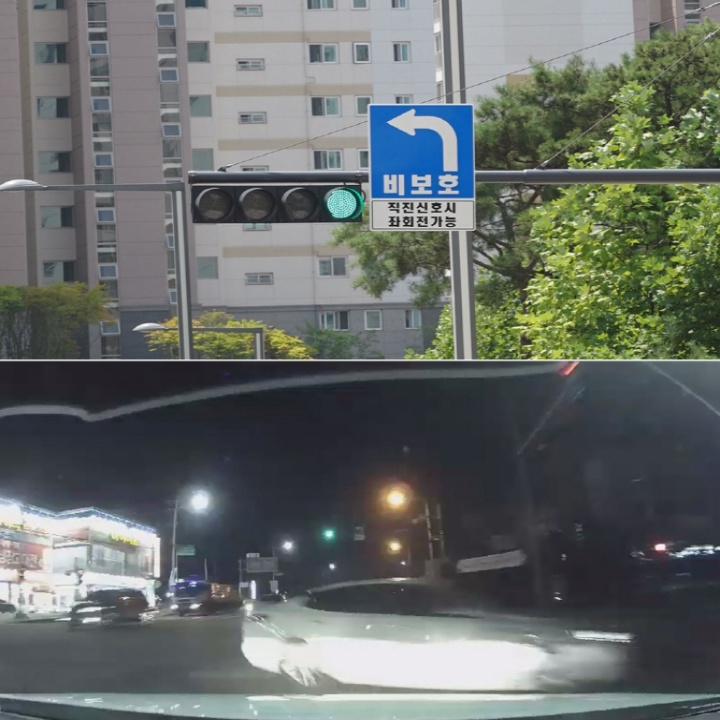left: (378, 106, 462, 174)
